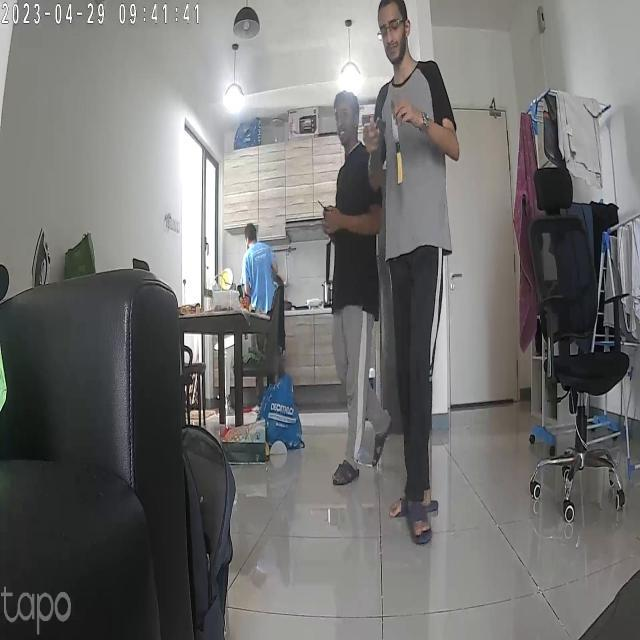Knife: (383, 94, 421, 191)
